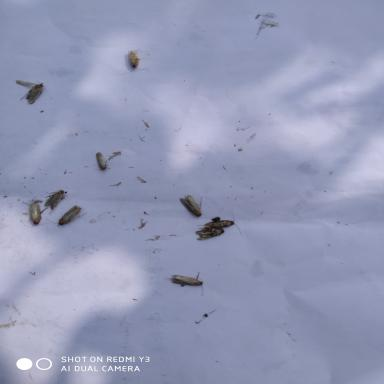pbw: (195, 209, 245, 237), (162, 270, 206, 297), (43, 204, 88, 227), (18, 78, 50, 107), (118, 48, 151, 74), (36, 187, 71, 211), (19, 197, 47, 226), (177, 193, 205, 218), (192, 226, 229, 244), (92, 150, 112, 172)
